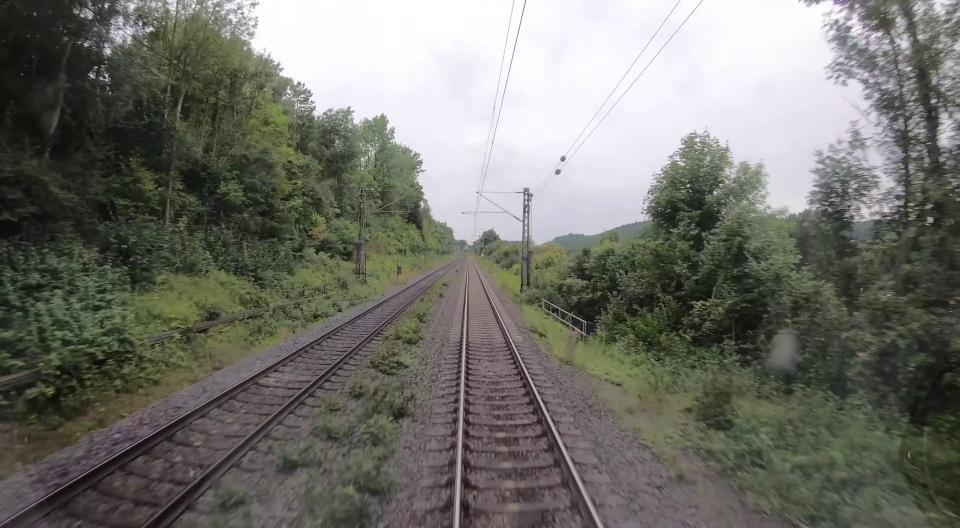Plant: (480, 258, 690, 470), (368, 283, 446, 377), (336, 414, 398, 497), (346, 369, 416, 422), (303, 485, 378, 528), (275, 440, 315, 473), (310, 415, 350, 443), (214, 485, 250, 513)
